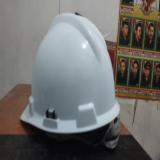Helmet: (20, 12, 120, 134)
